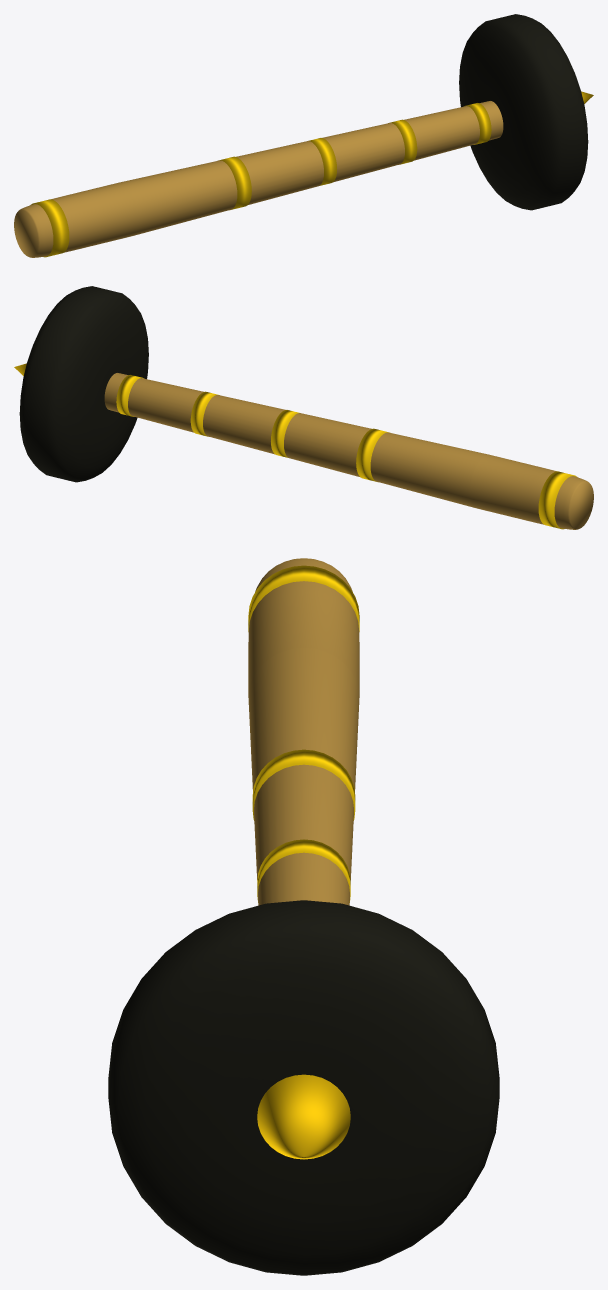
The model's file is panggul.fbx.
3 renders of one model, top to bottom at view 1: azimuth 30°, elevation 25°; view 2: azimuth 150°, elevation 25°; view 3: azimuth 270°, elevation 25°, orthographic. The views are drawn at different scales.
Visible parts, largest first — view 1: Silinder.001, Silinder, Silinder.006, Silinder.005, Silinder.004, Silinder.003, Silinder.002; view 2: Silinder.001, Silinder, Silinder.006, Silinder.005, Silinder.004, Silinder.003, Silinder.002; view 3: Silinder, Silinder.001, Kerucut, Silinder.006, Silinder.005, Silinder.004.
Part boxes in pixels (x1,y1,x2,y2): Silinder.001: (14,101,503,257); Silinder: (459,14,588,210); Silinder.006: (31,199,69,257); Silinder.005: (218,156,251,210); Silinder.004: (308,138,336,185); Silinder.003: (388,119,417,164); Silinder.002: (464,103,491,144); Silinder.001: (104,373,593,529); Silinder: (19,286,148,482); Silinder.006: (538,471,576,529); Silinder.005: (356,428,389,482); Silinder.004: (271,410,299,457); Silinder.003: (190,391,219,436); Silinder.002: (116,375,143,416); Silinder: (108,900,499,1275); Silinder.001: (248,558,359,905); Kerucut: (257,1074,350,1159); Silinder.006: (248,565,359,631); Silinder.005: (252,749,355,820); Silinder.004: (257,839,350,902).
Bounding box in the file's own units: 260 × 77.53 × 77.53.
